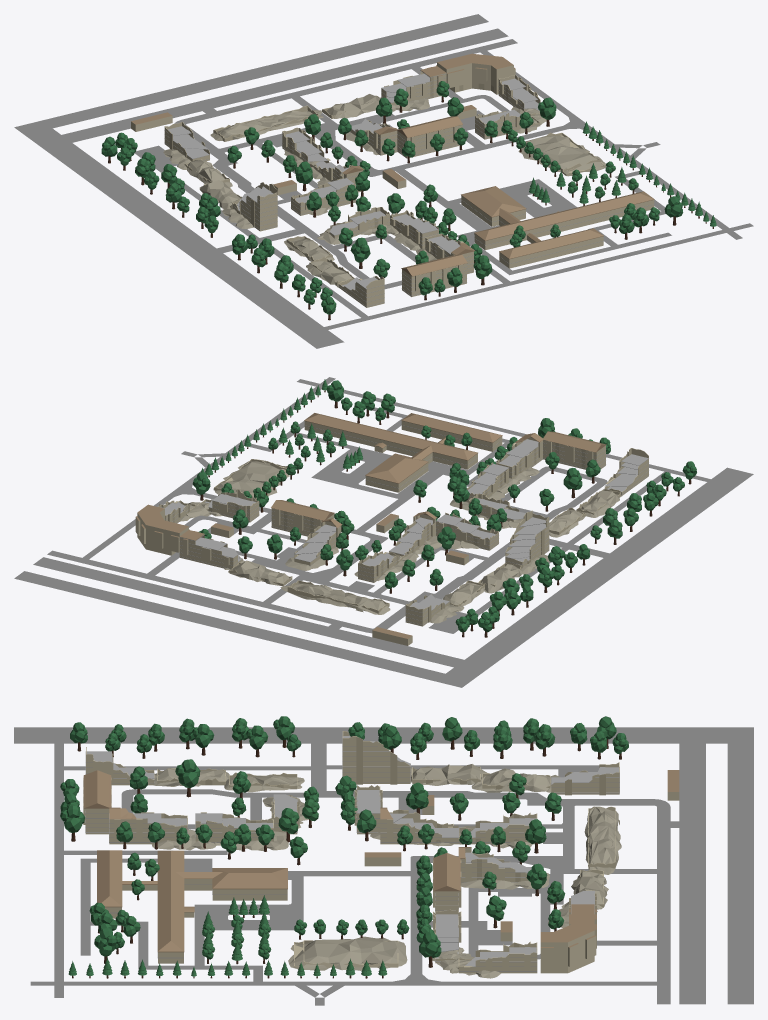
The model's file is map_with_damaged_buildings_and_ruins.fbx.
The picture shows the model from 3 angles, top to bottom: view 1: azimuth 30°, elevation 25°; view 2: azimuth 150°, elevation 25°; view 3: azimuth 270°, elevation 25°; orthographic projection. The views are drawn at different scales.
Visible parts, largest first — view 1: roads1, trees, ruins, school_42, h16A, h19, h32, h27_1_damaged, h16_damaged, h25_damaged, h22_1_damaged, h17_damaged (+8 smaller); view 2: roads1, trees, ruins, school_42, h16A, h27_1_damaged, h32, h16_damaged, h19, h31_1_damaged, h21_damaged, h29_2_damaged (+7 smaller); view 3: roads1, trees, ruins, school_42, h16A, h27_1_damaged, h17_damaged, h31_1_damaged, h32, h22_2_damaged, h19, h20_damaged (+9 smaller).
Boxes of the visible parts, x1,y1,x2,y2 form: roads1: (14,14,753,348); trees: (101,81,716,320); ruins: (163,94,606,287); school_42: (461,186,654,268); h16A: (436,53,515,94); h19: (397,116,462,158); h32: (401,254,467,296); h27_1_damaged: (232,182,277,230); h16_damaged: (381,66,446,104); h25_damaged: (164,122,209,161); h22_1_damaged: (282,127,330,165); h17_damaged: (498,75,540,110); roads1: (14,377,753,687); trees: (192,379,696,637); ruins: (180,459,621,623); school_42: (304,413,502,492); h16A: (135,504,189,555); h27_1_damaged: (505,510,549,567); h32: (543,431,606,469); h16_damaged: (179,530,242,568); h19: (271,500,334,536); h31_1_damaged: (496,433,543,477); h21_damaged: (436,512,498,549); h29_2_damaged: (604,448,648,494); roads1: (14,727,753,1005); trees: (60,716,628,978); ruins: (152,764,621,978); school_42: (97,850,287,963); h16A: (540,909,596,973); h27_1_damaged: (342,731,410,782); h17_damaged: (458,941,537,973); h31_1_damaged: (109,807,187,842); h32: (83,770,111,834); h22_2_damaged: (380,807,458,843); h19: (433,853,461,912); h20_damaged: (458,847,531,882).
Size of the model in its own units: 336 by 28.88 by 377.
